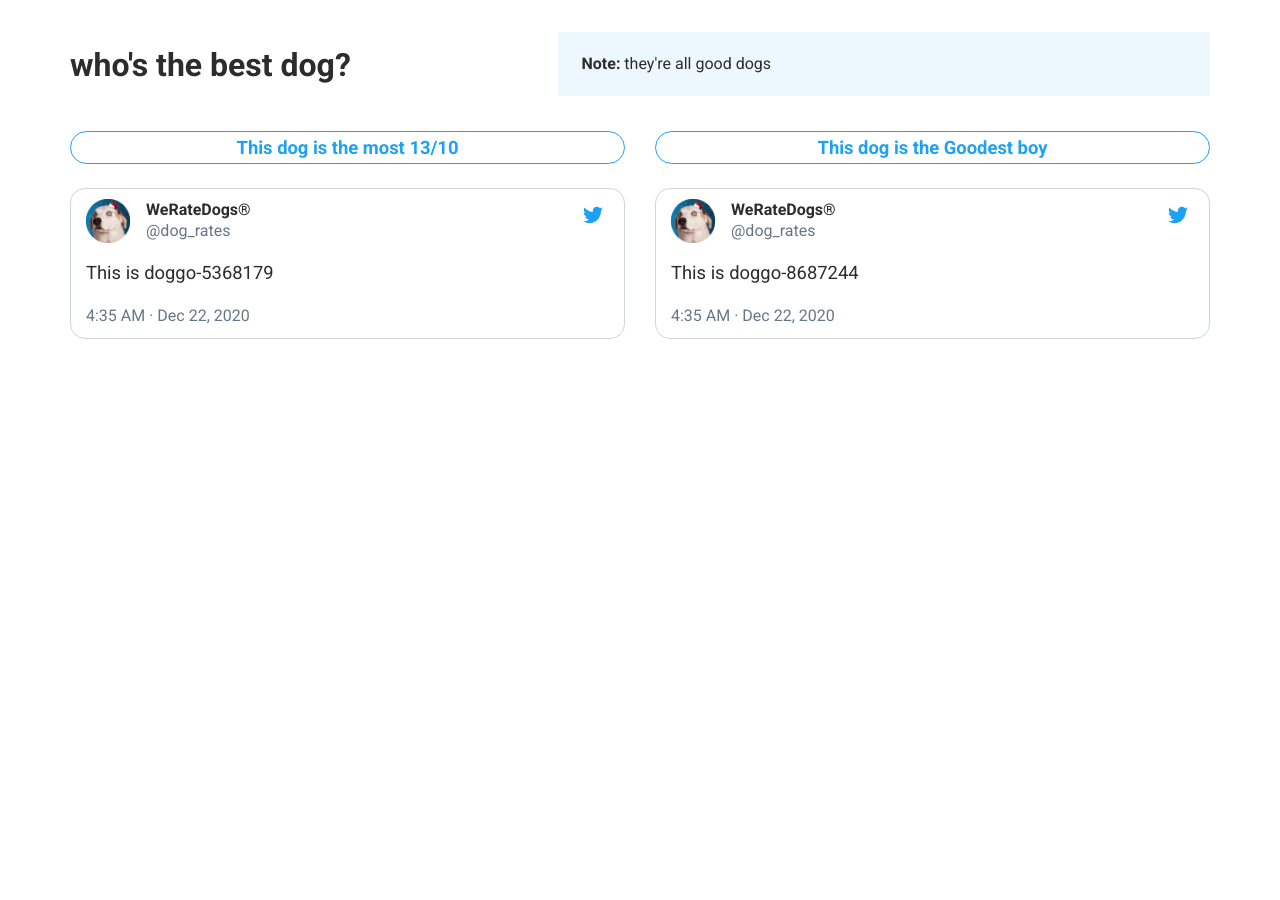
it: <App /> › shows a message if compare fails
Click the button "This dog is the most 13/10" at (348, 148), box [70,131,625,164]
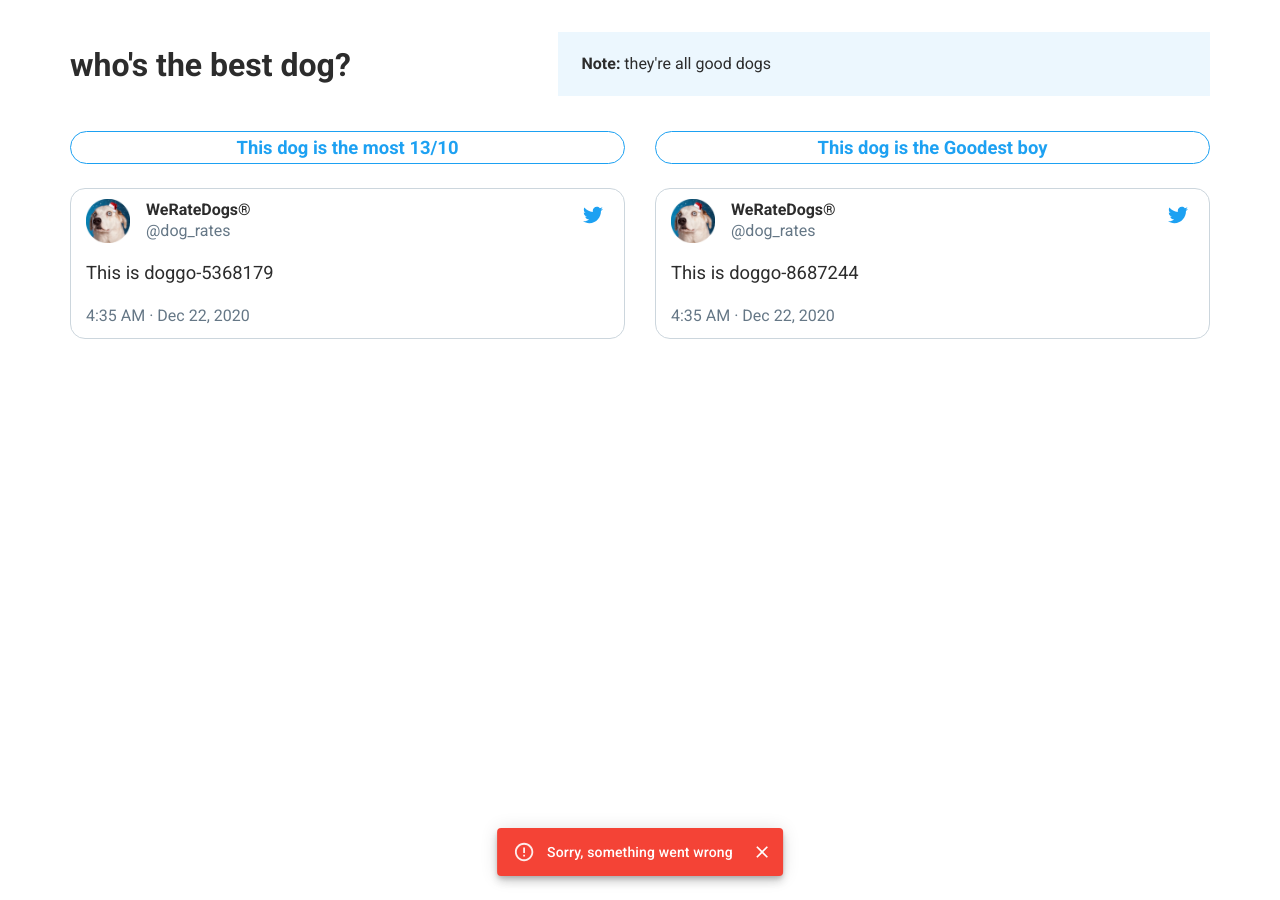
Expected: the text "Sorry, something went wrong" is shown, [547,844,733,860]
